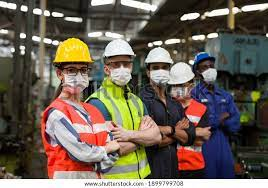Helmet: (50, 37, 95, 61), (101, 38, 138, 58), (143, 47, 177, 66), (169, 65, 190, 83)
Jacket: (90, 87, 146, 181), (42, 102, 102, 177)
Mask: (59, 73, 88, 92), (108, 69, 134, 86), (148, 70, 170, 88), (200, 70, 217, 84)
No-jacket: (146, 94, 185, 179), (200, 88, 234, 176)
